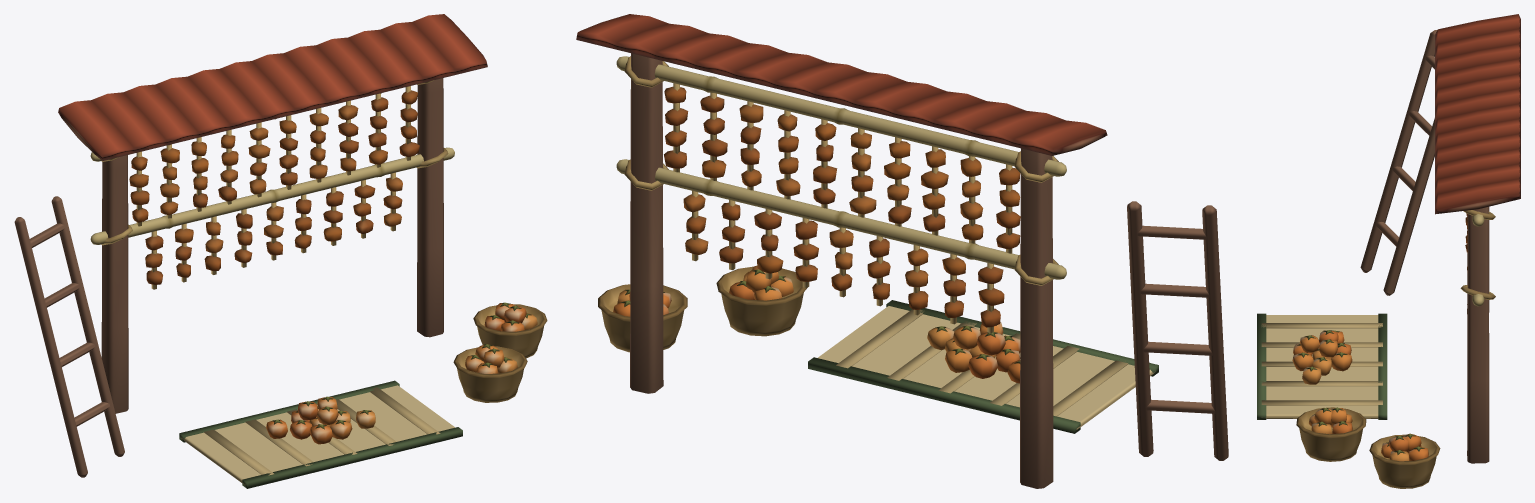
The model's file is hoshigaki-frame.glb.
The picture shows the model from 3 angles, left to right: view 1: azimuth 30°, elevation 25°; view 2: azimuth 150°, elevation 25°; view 3: azimuth 270°, elevation 25°; orthographic projection. The views are drawn at different scales.
Visible parts, largest first — view 1: frame; view 2: frame; view 3: frame.
Boxes of the visible parts, x1,y1,x2,y2 form: frame: [14, 14, 547, 488]; frame: [576, 14, 1228, 488]; frame: [1257, 14, 1520, 488].
Bounding box in the file's own units: 3.08 × 1.73 × 1.44.
